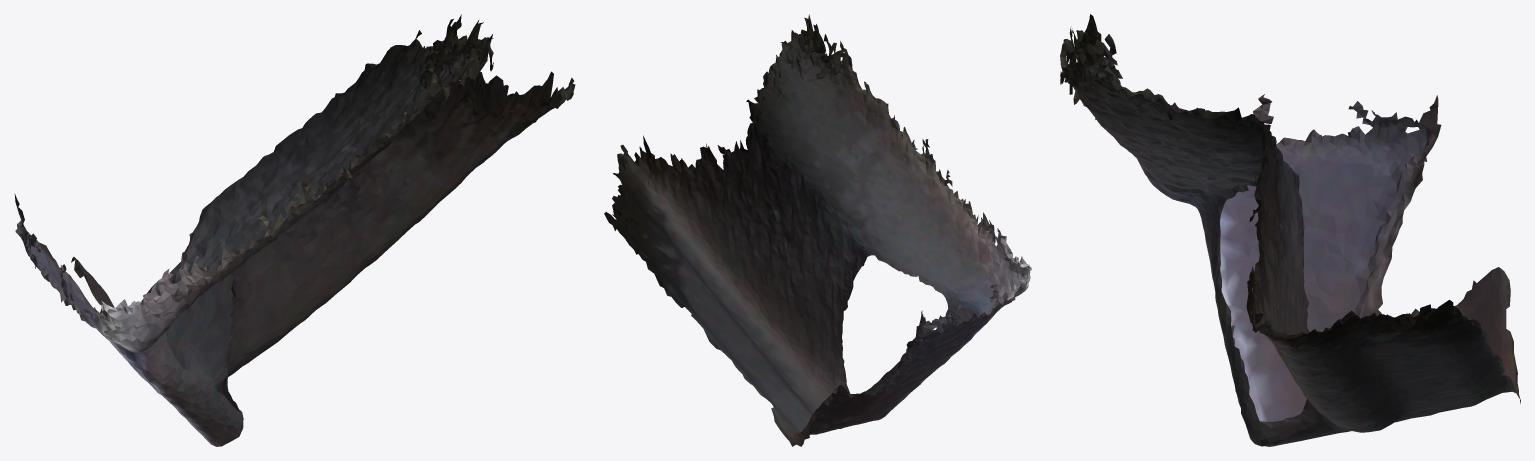
The model's file is 0-couch.rot.rot.obj.
3 renders of one model, left to right at view 1: azimuth 30°, elevation 25°; view 2: azimuth 150°, elevation 25°; view 3: azimuth 270°, elevation 25°, orthographic. The views are drawn at different scales.
Bounding box in the file's own units: 1.39 × 1.14 × 0.9085.
